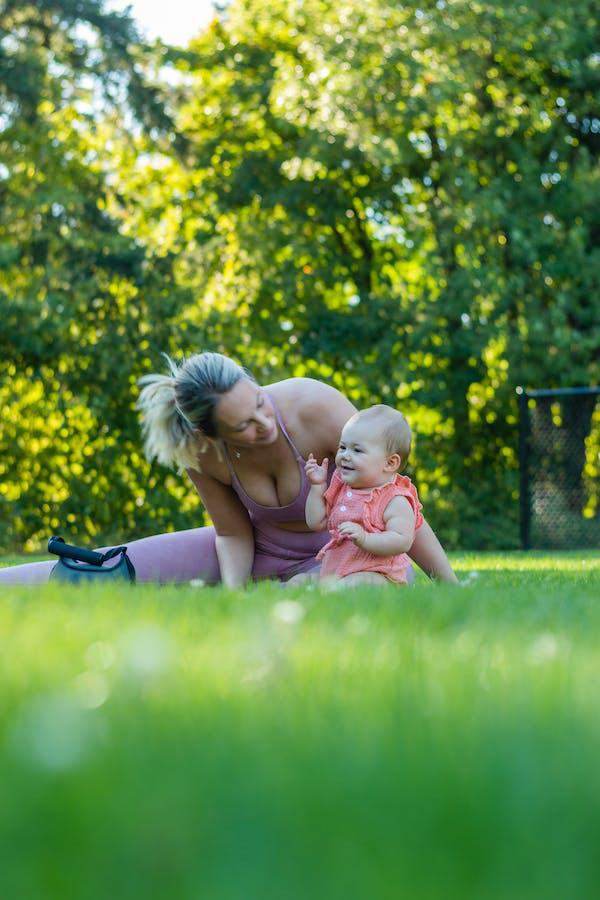child: (282, 410, 448, 614)
